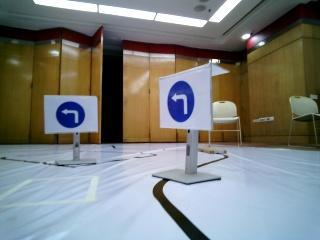left: (160, 79, 212, 126), (44, 96, 101, 134)
